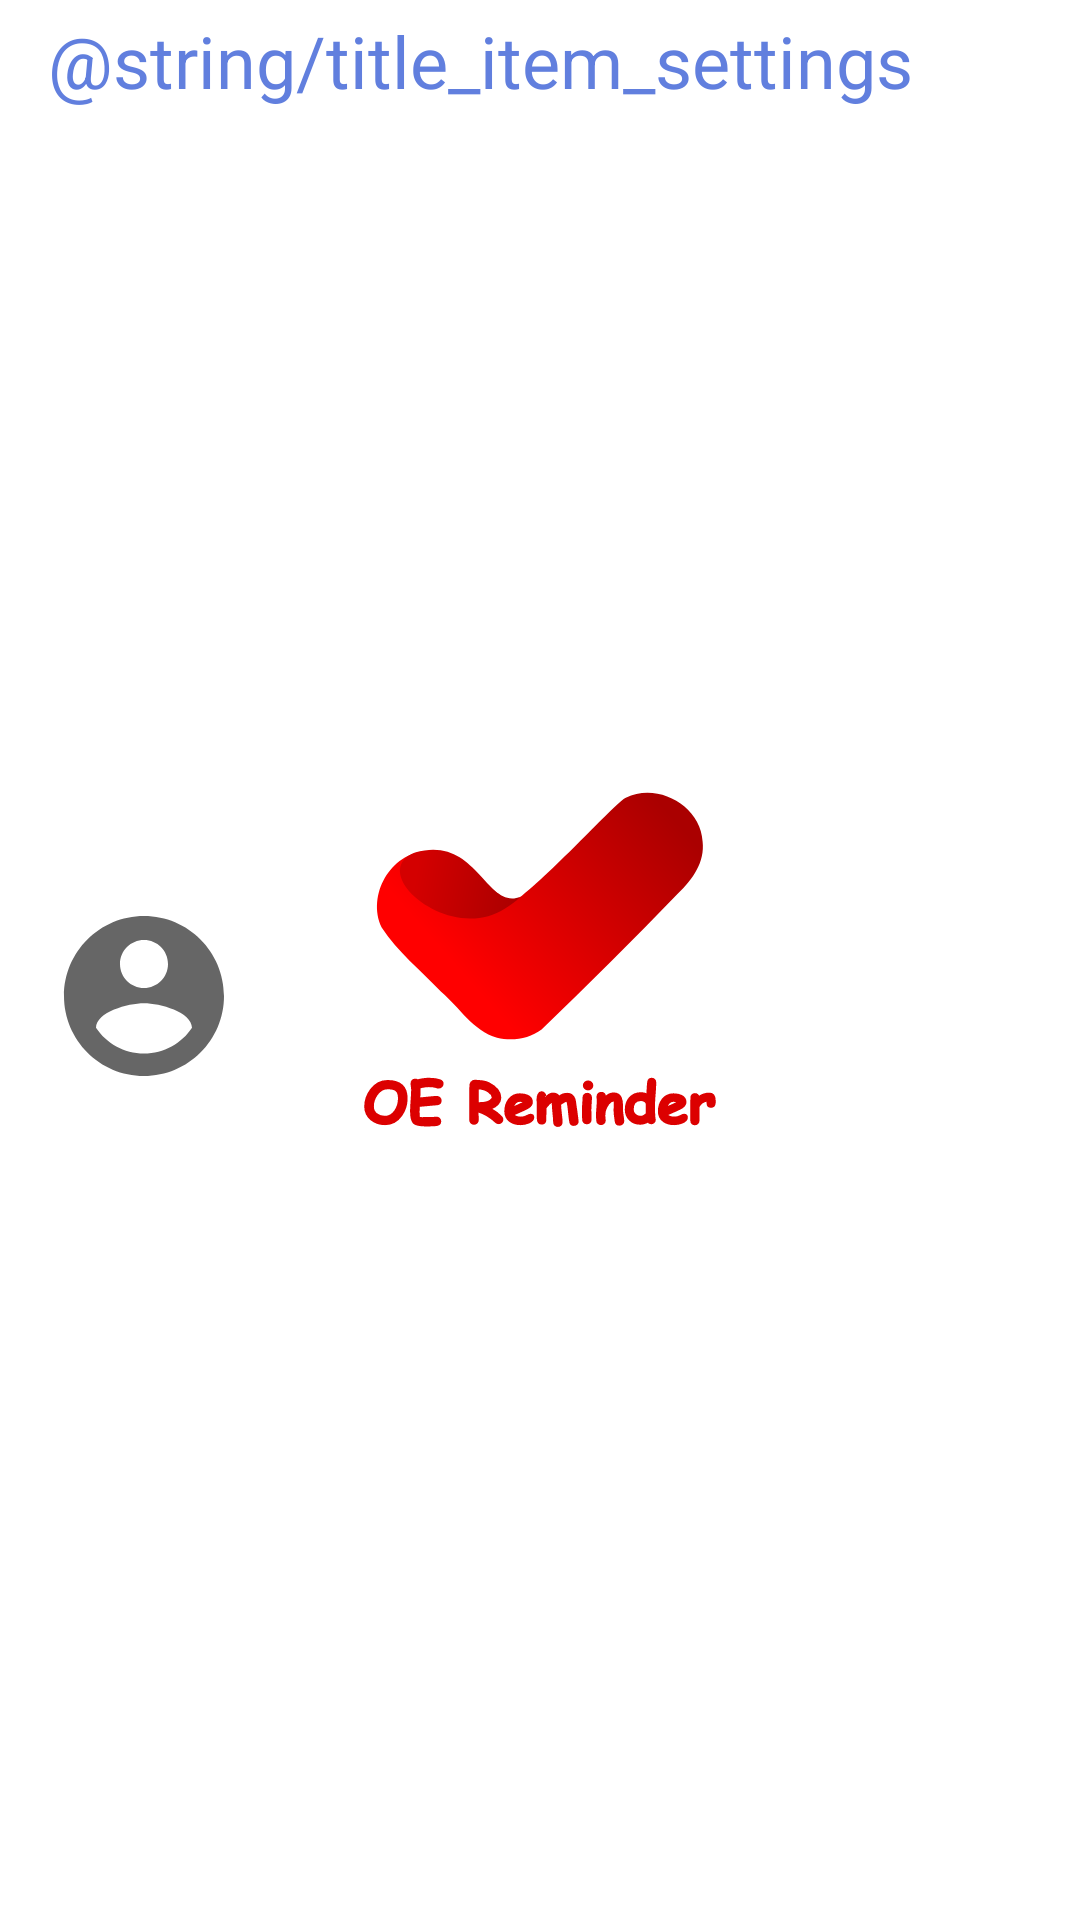

Screen size 1080x1920. Icon name, then its box in pixels as detection(x1, y1, x2, y2):
account circle: detection(64, 916, 224, 1076)
